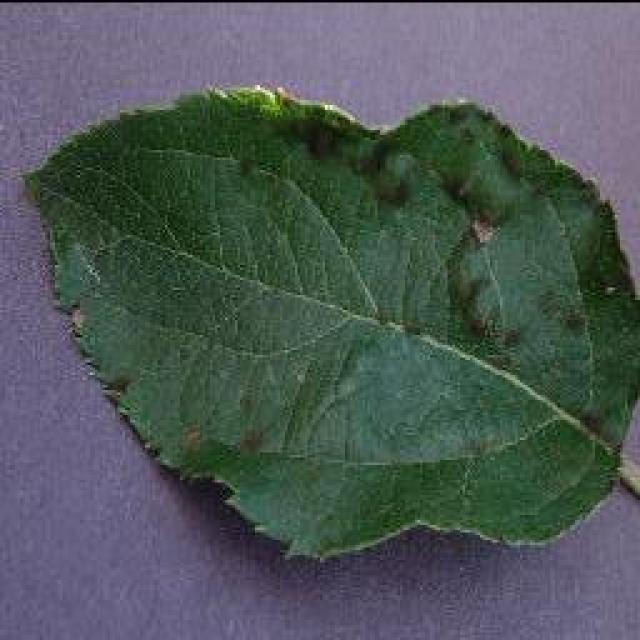apple scab disease: (20, 80, 638, 562)
